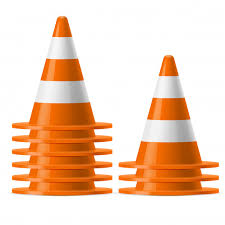cones: (11, 16, 113, 130), (120, 54, 218, 170)
